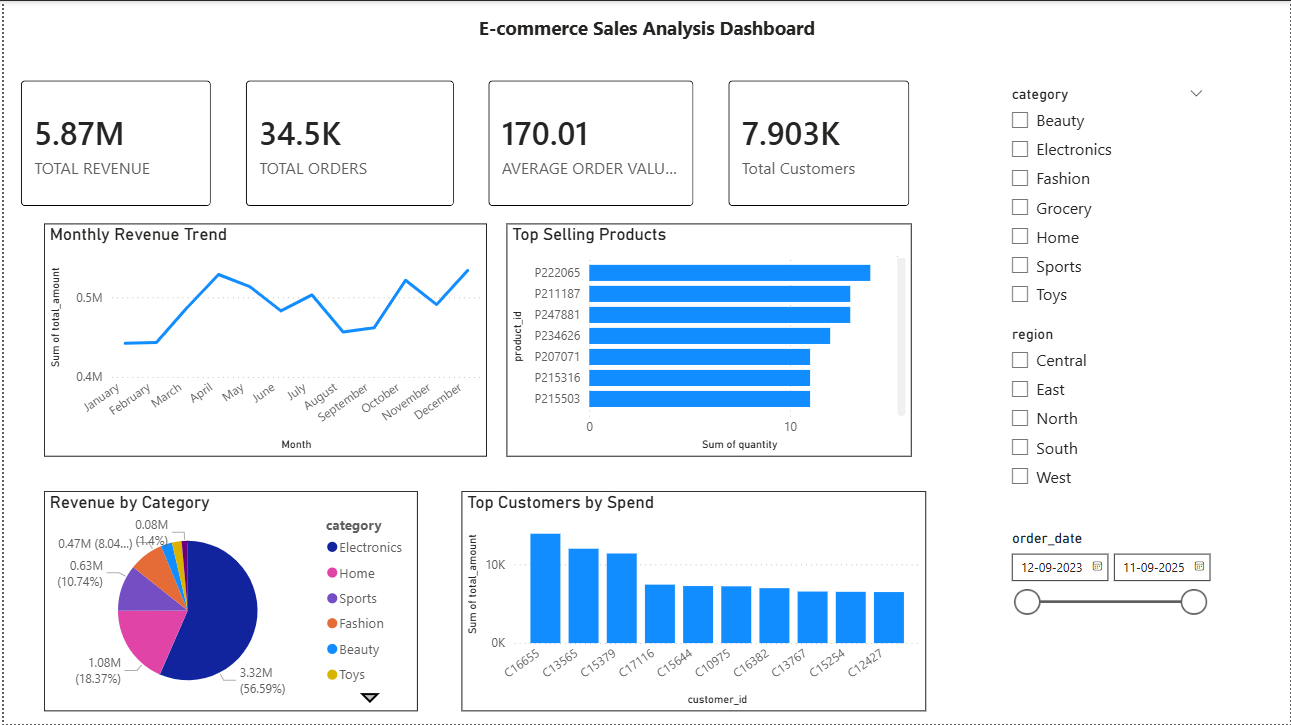

The dashboard page shown, as its layout file describes it:
{"tool":"powerbi","page":{"name":"Page 1","canvas":[1280,720],"ordinal":0},"visuals":[{"type":"cardVisual","fields":{"Data":["Sum(sales.total_amount)"]},"box":[0,61.7,223.7,159.2],"z":0},{"type":"cardVisual","fields":{"Data":["CountNonNull(sales.order_id)"]},"box":[223.7,61.7,241.5,159.2],"z":1000},{"type":"cardVisual","title":"AVERAGE ORDER VALUE (AOV)","fields":{"Data":["Avg(sales.total_amount)"]},"box":[465.2,61.7,238.8,159.2],"z":2000},{"type":"cardVisual","fields":{"Data":["Count(sales.customer_id)"]},"box":[703.9,61.7,214.1,159.2],"z":3000},{"type":"lineChart","title":"Monthly Revenue Trend","fields":{"Category":["sales.order_date.Variation.Date Hierarchy.Month","sales.order_date.Variation.Date Hierarchy.Day"],"Y":["Sum(sales.total_amount)"]},"box":[39.8,220.9,440.5,231.9],"z":4000},{"type":"clusteredBarChart","title":"Top Selling Products","fields":{"Category":["sales.product_id"],"Y":["Sum(sales.quantity)"]},"box":[499.5,220.9,403.4,231.9],"z":5000},{"type":"pieChart","title":"Revenue by Category","fields":{"Category":["sales.category"],"Y":["Sum(sales.total_amount)"]},"box":[39.8,487.1,371.9,219.6],"z":6000},{"type":"clusteredColumnChart","title":"Top Customers by Spend","fields":{"Category":["sales.customer_id"],"Y":["Sum(sales.total_amount)"]},"box":[455.6,487.1,462.4,219.6],"z":7000},{"type":"slicer","fields":{"Values":["sales.category"]},"box":[990.7,79.6,215.4,238.8],"z":7001},{"type":"slicer","fields":{"Values":["sales.region"]},"box":[990.7,318.4,215.4,179.8],"z":7002},{"type":"slicer","fields":{"Values":["sales.order_date"]},"box":[990.7,521.4,215.4,157.8],"z":7003},{"type":"textbox","box":[448.7,8.2,381.5,61.7],"z":7004}]}

Visuals, with their boxes in screenshot pixels (x1, y1, x2, y2), scaled from the page's 1280x720 canvas onto the 1291x725 screenshot:
cardVisual - Sum(sales.total_amount): {"left": 0, "top": 62, "right": 226, "bottom": 222}
cardVisual - CountNonNull(sales.order_id): {"left": 226, "top": 62, "right": 469, "bottom": 222}
"AVERAGE ORDER VALUE (AOV)" cardVisual: {"left": 469, "top": 62, "right": 710, "bottom": 222}
cardVisual - Count(sales.customer_id): {"left": 710, "top": 62, "right": 926, "bottom": 222}
"Monthly Revenue Trend" lineChart: {"left": 40, "top": 222, "right": 484, "bottom": 456}
"Top Selling Products" clusteredBarChart: {"left": 504, "top": 222, "right": 911, "bottom": 456}
"Revenue by Category" pieChart: {"left": 40, "top": 490, "right": 415, "bottom": 712}
"Top Customers by Spend" clusteredColumnChart: {"left": 460, "top": 490, "right": 926, "bottom": 712}
slicer - sales.category: {"left": 999, "top": 80, "right": 1216, "bottom": 321}
slicer - sales.region: {"left": 999, "top": 321, "right": 1216, "bottom": 502}
slicer - sales.order_date: {"left": 999, "top": 525, "right": 1216, "bottom": 684}
textbox: {"left": 453, "top": 8, "right": 837, "bottom": 70}
